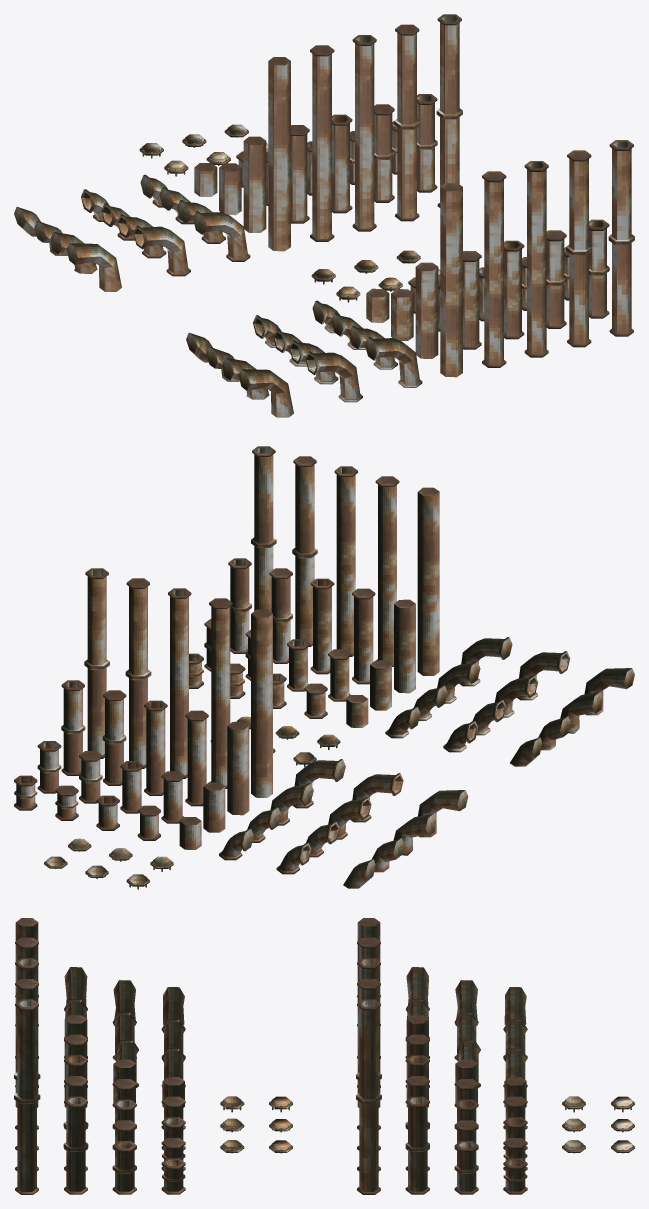
File: pipesP.fbx
3 views of the same model, one above another, from view 1: azimuth 30°, elevation 25°; view 2: azimuth 150°, elevation 25°; view 3: azimuth 270°, elevation 25° (orthographic). The views are drawn at different scales.
Parts seen in each view (by area): view 1: BigPipeCol, BigPipeCol.001, BigPipeClosedAlt.001, BigPipeClosedAlt, BigPipeOpenAlt.001, BigPipeClosed, BigPipeOpen, BigPipeOpen.001, BigPipeClosed.001, BigPipeOpenAlt, RegularPipeCol, RegularPipeCol.001 (+24 smaller); view 2: BigPipeCol.001, BigPipeCol, BigPipeClosedAlt.001, BigPipeOpenAlt, BigPipeOpen.001, BigPipeClosed, BigPipeClosedAlt, BigPipeOpen, BigPipeClosed.001, BigPipeOpenAlt.001, RegularPipeCol, RegularPipeCol.001 (+45 smaller); view 3: BigPipeOpenAlt.001, BigPipeOpenAlt, RegularPipeOpenAlt, RegularPipeOpenAlt.001, BigPipeCol, BigPipeCol.001, MediumPipeOpenAlt, MediumPipeOpenAlt.001, RegularPipeCol.001, ShortPipeOpenAlt, ShortPipeOpenAlt.001, CurveMediumCol.001 (+42 smaller).
Boxes of the visible parts, left/top/right/bottom form: BigPipeCol: left=268, top=57, right=290, bottom=251; BigPipeCol.001: left=440, top=182, right=462, bottom=377; BigPipeClosedAlt.001: left=566, top=150, right=592, bottom=347; BigPipeClosedAlt: left=394, top=24, right=420, bottom=221; BigPipeOpenAlt.001: left=608, top=140, right=634, bottom=336; BigPipeClosed: left=310, top=45, right=334, bottom=241; BigPipeOpen: left=352, top=35, right=376, bottom=231; BigPipeOpen.001: left=524, top=161, right=548, bottom=357; BigPipeClosed.001: left=482, top=171, right=506, bottom=367; BigPipeOpenAlt: left=436, top=14, right=462, bottom=207; RegularPipeCol: left=243, top=136, right=266, bottom=232; RegularPipeCol.001: left=415, top=262, right=438, bottom=358; BigPipeCol.001: left=417, top=487, right=439, bottom=675; BigPipeCol: left=251, top=609, right=272, bottom=797; BigPipeClosedAlt.001: left=292, top=456, right=317, bottom=646; BigPipeOpenAlt: left=84, top=568, right=109, bottom=758; BigPipeOpen.001: left=334, top=466, right=357, bottom=656; BigPipeClosed: left=209, top=598, right=232, bottom=788; BigPipeClosedAlt: left=125, top=578, right=151, bottom=768; BigPipeOpen: left=168, top=588, right=191, bottom=778; BigPipeClosed.001: left=375, top=476, right=399, bottom=666; BigPipeOpenAlt.001: left=251, top=446, right=276, bottom=612; RegularPipeCol: left=227, top=721, right=249, bottom=815; RegularPipeCol.001: left=394, top=599, right=415, bottom=693; BigPipeOpenAlt.001: left=14, top=999, right=40, bottom=1194; BigPipeOpenAlt: left=356, top=999, right=381, bottom=1194; RegularPipeOpenAlt: left=405, top=1096, right=429, bottom=1194; RegularPipeOpenAlt.001: left=63, top=1096, right=88, bottom=1194; BigPipeCol: left=357, top=918, right=380, bottom=1107; BigPipeCol.001: left=15, top=918, right=38, bottom=1107; MediumPipeOpenAlt: left=454, top=1141, right=478, bottom=1194; MediumPipeOpenAlt.001: left=112, top=1141, right=136, bottom=1194; RegularPipeCol.001: left=64, top=1015, right=87, bottom=1107; ShortPipeOpenAlt: left=503, top=1158, right=527, bottom=1194; ShortPipeOpenAlt.001: left=161, top=1158, right=185, bottom=1194; CurveMediumCol.001: left=64, top=967, right=87, bottom=1018.
Size of what is drawn, in the model's own units: 4553 by 2109 by 6358.
2 materials, 2 textured.
